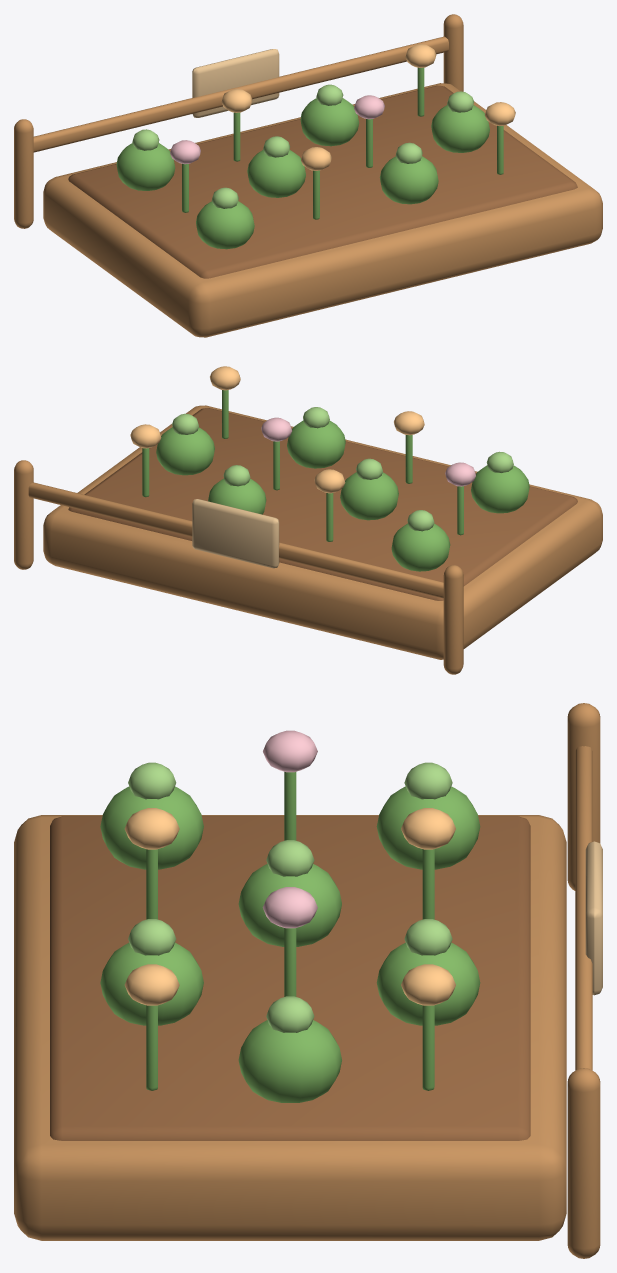
Rendered from ow_garden.glb.
The picture shows the model from 3 angles, top to bottom: view 1: azimuth 30°, elevation 25°; view 2: azimuth 150°, elevation 25°; view 3: azimuth 270°, elevation 25°; orthographic projection. The views are drawn at different scales.
Visible parts, largest first — view 1: OwGarden; view 2: OwGarden; view 3: OwGarden.
Boxes of the visible parts, x1,y1,x2,y2 form: OwGarden: (14,14,602,337); OwGarden: (14,366,602,674); OwGarden: (14,703,602,1258).
Bounding box in the file's own units: 2.6 × 0.716 × 1.7.
